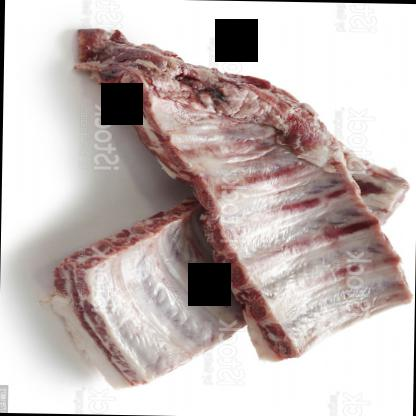pork rib: (69, 30, 410, 362), (48, 170, 408, 396)
